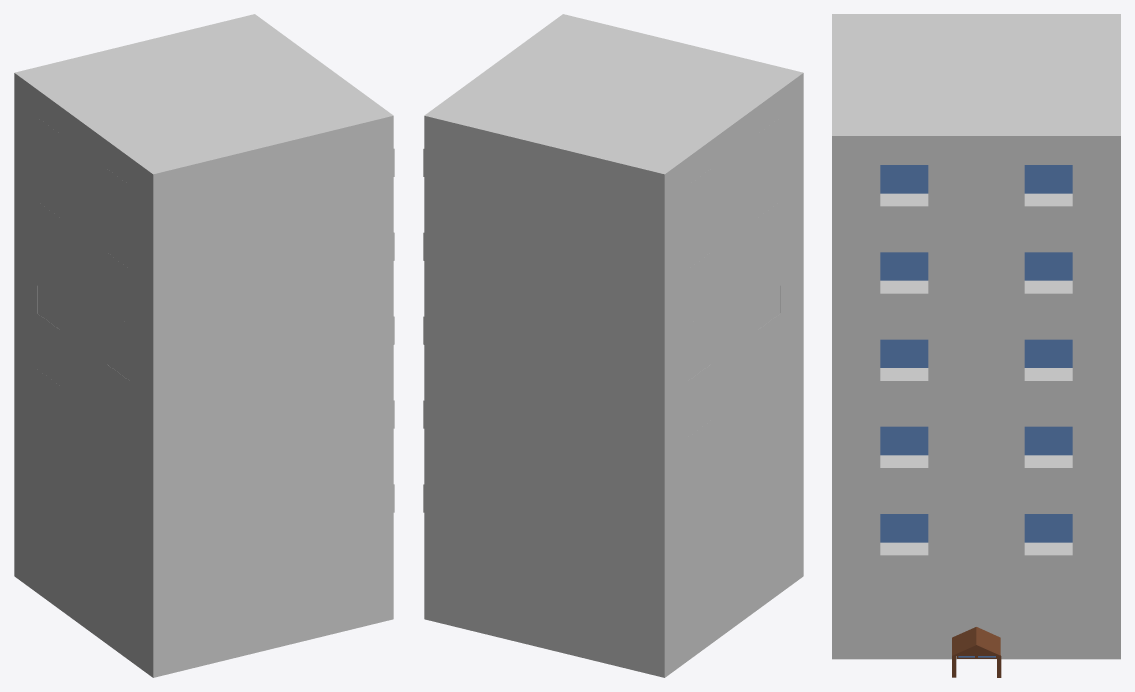
File: predio.fbx
3 views of the same model, side by side, from view 1: azimuth 30°, elevation 25°; view 2: azimuth 150°, elevation 25°; view 3: azimuth 270°, elevation 25° (orthographic). The views are drawn at different scales.
Visible parts, largest first — view 1: Cube; view 2: Cube; view 3: Cube.
Part boxes in pixels (x1=…): Cube: x1=14, y1=14, x2=394, y2=677; Cube: x1=423, y1=14, x2=803, y2=677; Cube: x1=832, y1=14, x2=1120, y2=677.
Size of the model in its own units: 230 by 400 by 200.
